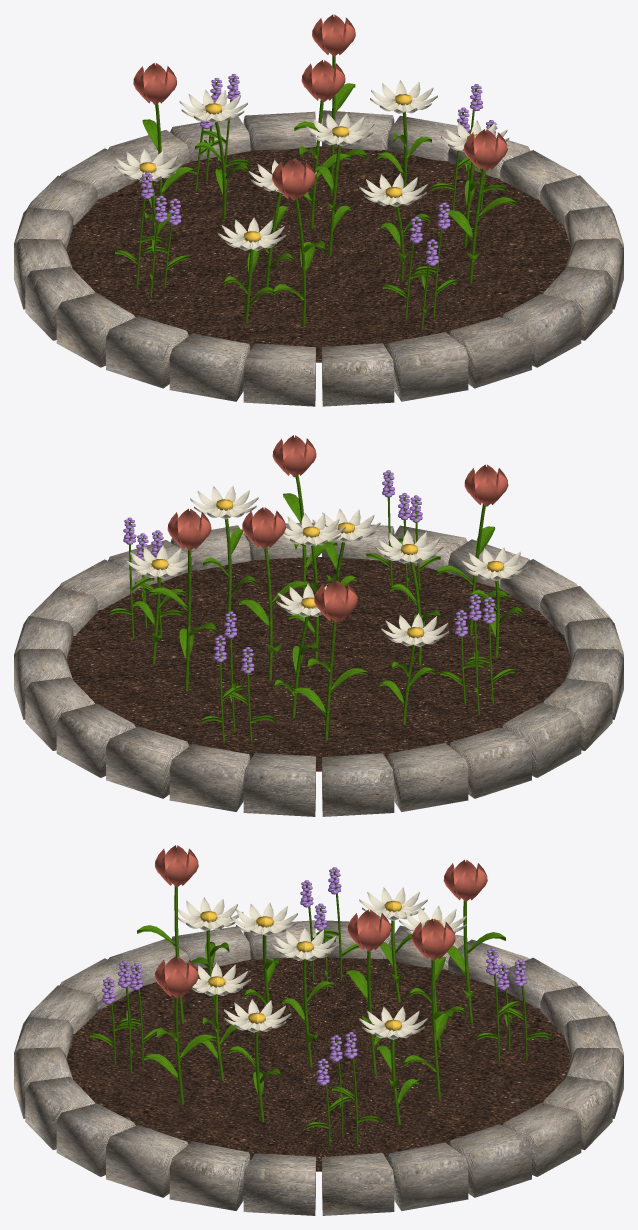
File: Flowerbed.gltf
3 renders of one model, top to bottom at view 1: azimuth 30°, elevation 25°; view 2: azimuth 150°, elevation 25°; view 3: azimuth 270°, elevation 25°, orthographic.
Parts seen in each view (by area): view 1: Soil, Sandstone, Foliage, DaisyPetals, TulipPetals, Lavender, Pollen; view 2: Soil, Sandstone, Foliage, DaisyPetals, TulipPetals, Lavender, Pollen; view 3: Soil, Sandstone, Foliage, DaisyPetals, TulipPetals, Lavender, Pollen.
Part boxes in pixels (left/top/right/bottom): Soil: left=66, top=146, right=571, bottom=362; Sandstone: left=14, top=110, right=623, bottom=406; Foliage: left=115, top=56, right=516, bottom=329; DaisyPetals: left=114, top=80, right=509, bottom=250; TulipPetals: left=133, top=14, right=507, bottom=200; Lavender: left=141, top=74, right=497, bottom=266; Pollen: left=139, top=94, right=477, bottom=242; Soil: left=66, top=557, right=571, bottom=771; Sandstone: left=14, top=522, right=623, bottom=816; Foliage: left=109, top=474, right=523, bottom=743; DaisyPetals: left=125, top=486, right=529, bottom=646; TulipPetals: left=167, top=435, right=508, bottom=622; Lavender: left=123, top=470, right=495, bottom=673; Pollen: left=151, top=499, right=503, bottom=638; Soil: left=66, top=957, right=571, bottom=1171; Sandstone: left=14, top=920, right=623, bottom=1215; Foliage: left=90, top=871, right=551, bottom=1145; DaisyPetals: left=178, top=887, right=466, bottom=1039; TulipPetals: left=154, top=845, right=487, bottom=998; Lavender: left=102, top=867, right=526, bottom=1085; Pollen: left=200, top=900, right=442, bottom=1031.
Size of the model in its own units: 3.8 by 1.36 by 3.8.
Materials: 7 (5 with a texture image).
